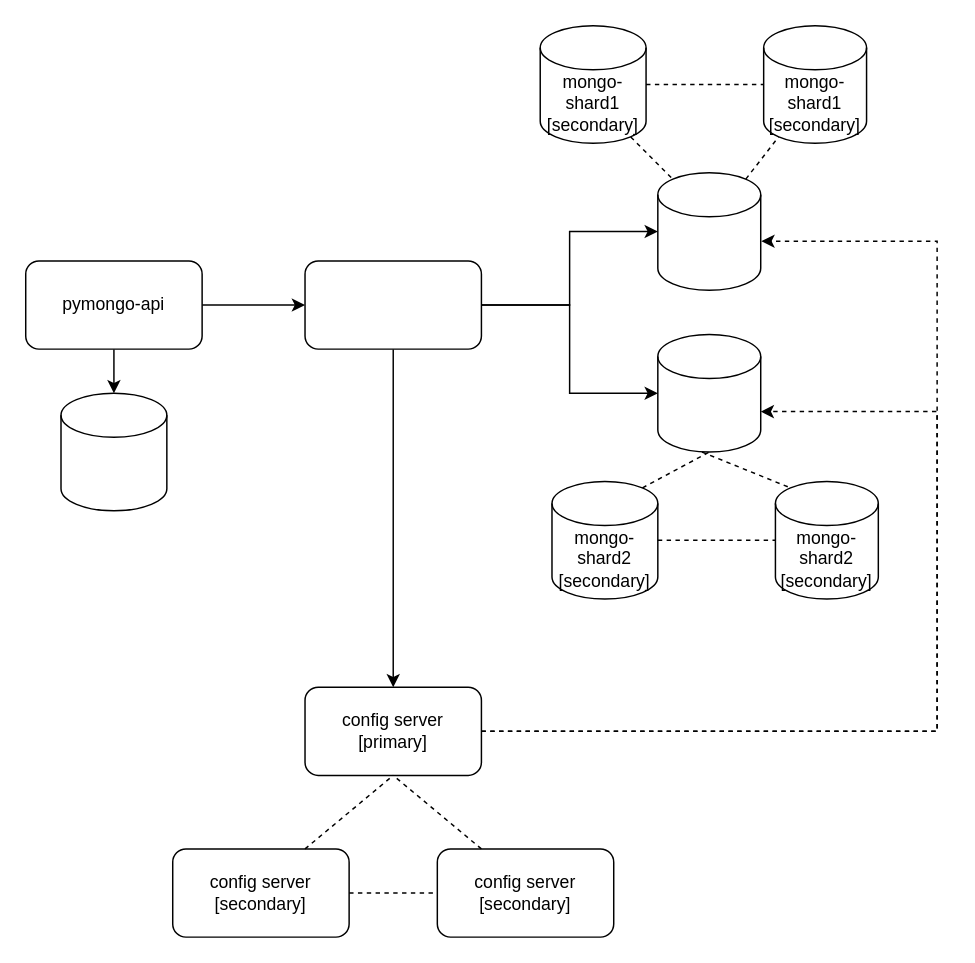
Some shapes in this 975 by 963 pixel diagram are drawn without their labels. The box of each missing label's shape, as (x1, y1, x2, y2) in pixels:
mongo-shard1 [primary]: (656, 171, 761, 290)
mongo-shard2 [primary]: (656, 333, 761, 452)
Redis: (60, 392, 167, 511)
rourter: (304, 259, 481, 349)
